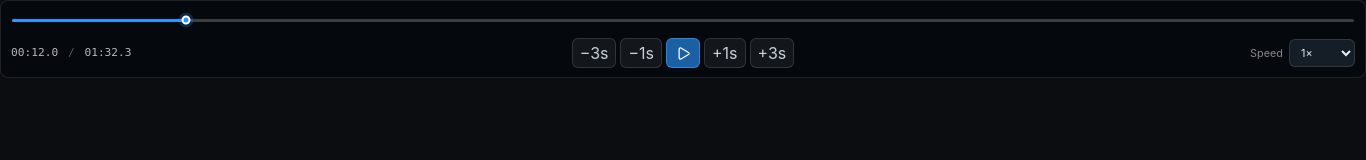
Test: HUD video controls › reports rejected transport seeks without leaking an unhandled rejection
The width and height of the screenshot is (1366, 160).
Click the button named "Seek forward 1 second". click: (725, 53)
box: [704, 38, 746, 68]
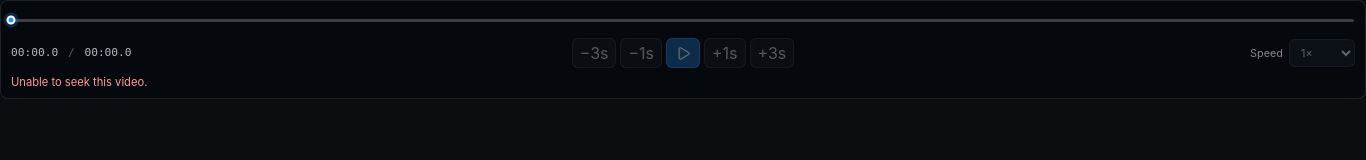
Result: the text "Unable to seek this video." is shown at [11, 75, 147, 89]
